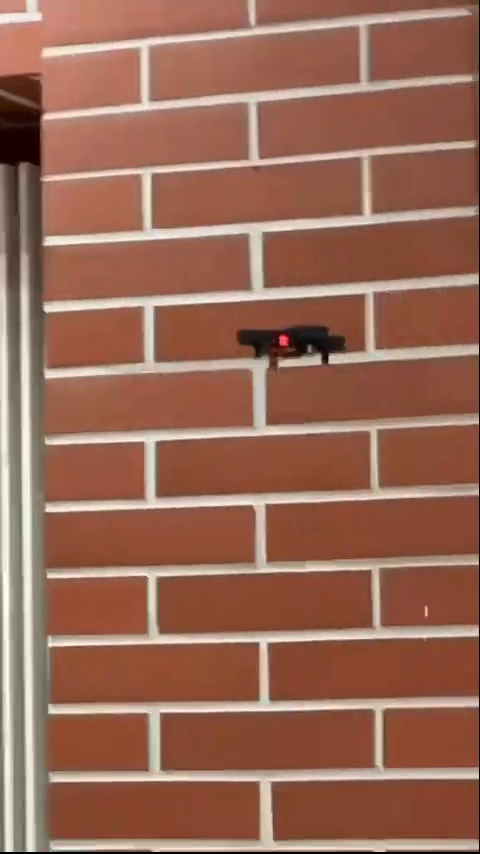drone: (234, 314, 346, 369)
